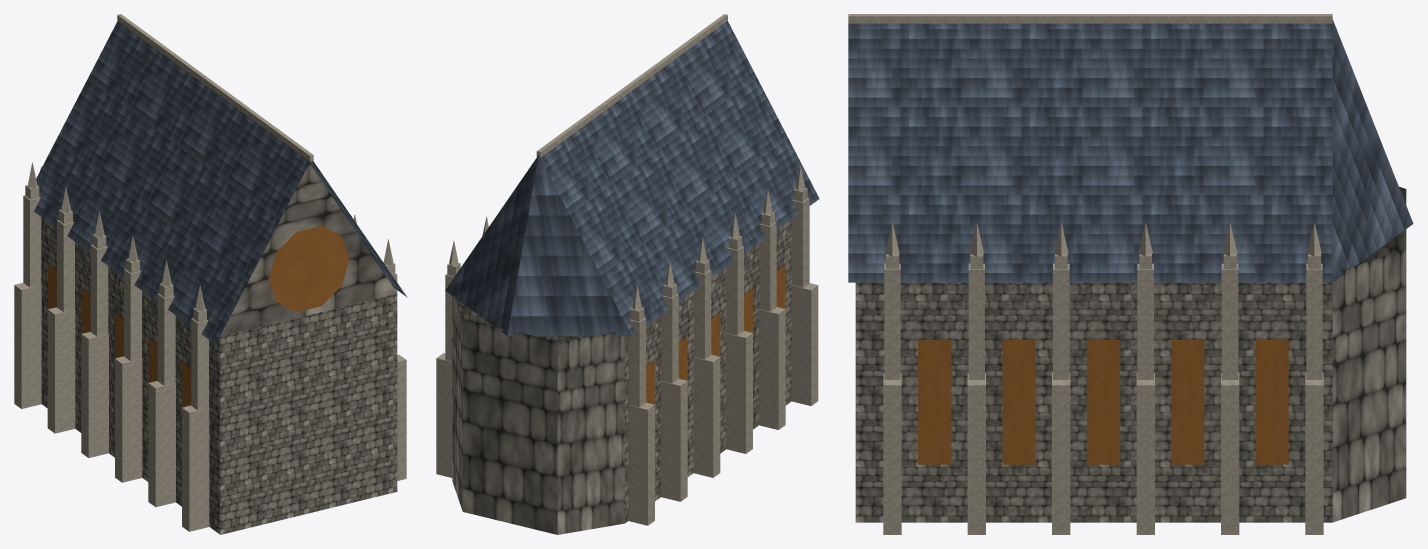
The model's file is Church_Nave_1_LOD1.gltf.
The picture shows the model from 3 angles, left to right: view 1: azimuth 30°, elevation 25°; view 2: azimuth 150°, elevation 25°; view 3: azimuth 270°, elevation 25°; orthographic projection. The views are drawn at different scales.
Parts seen in each view (by area): view 1: Church_Nave_1_LOD1; view 2: Church_Nave_1_LOD1; view 3: Church_Nave_1_LOD1.
Boxes of the visible parts, x1=… form: Church_Nave_1_LOD1: x1=14, y1=14, x2=407, y2=534; Church_Nave_1_LOD1: x1=436, y1=14, x2=819, y2=534; Church_Nave_1_LOD1: x1=848, y1=14, x2=1413, y2=534.
Size of the model in its own units: 17.2 by 27.25 by 30.8.
4 materials, 4 textured.
